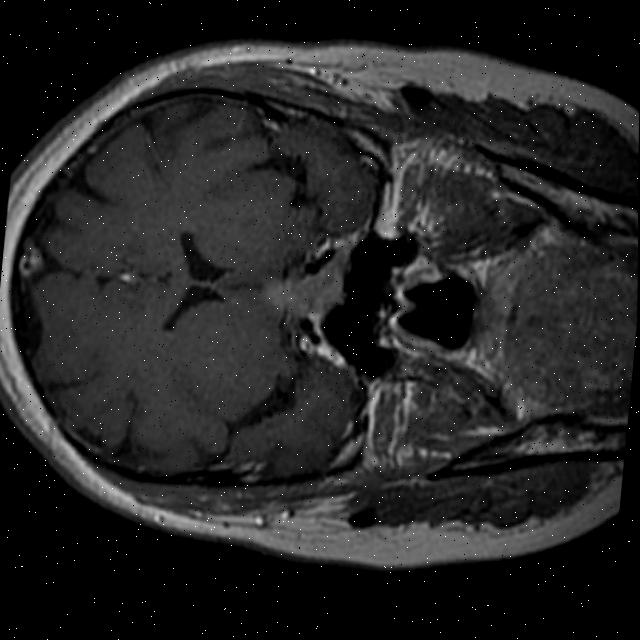Pituitary: (256, 256, 348, 325)
